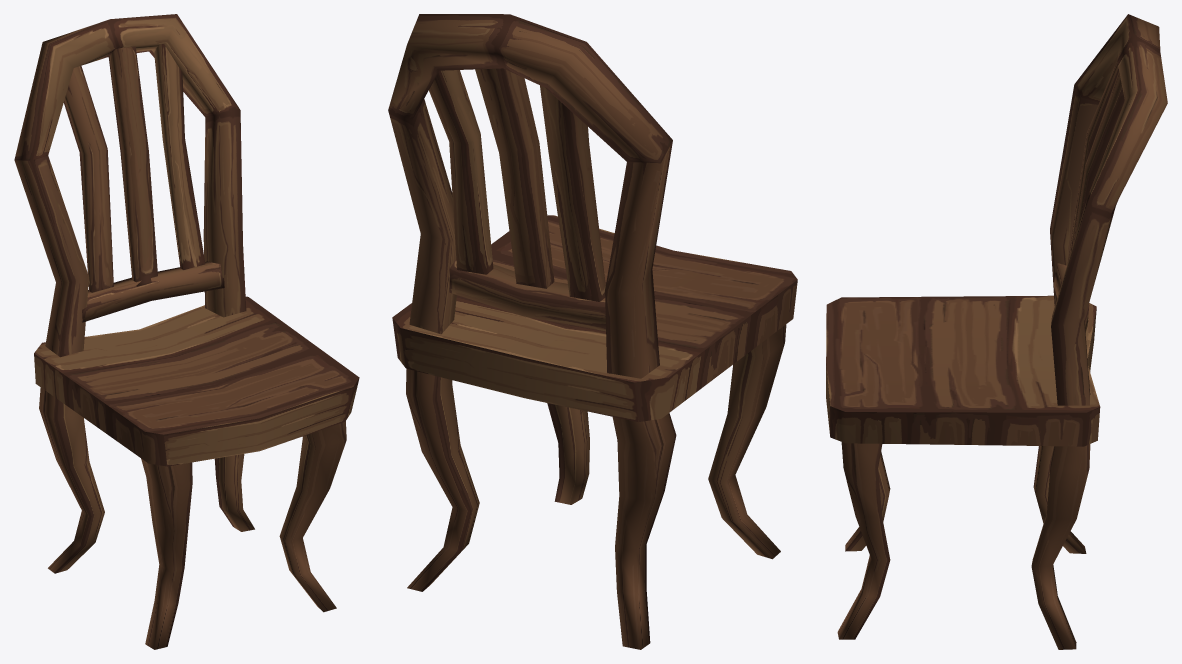
The model's file is SM_PROP_chair_interior_02.fbx.
3 views of the same model, side by side, from view 1: azimuth 30°, elevation 25°; view 2: azimuth 150°, elevation 25°; view 3: azimuth 270°, elevation 25° (orthographic). The views are drawn at different scales.
Parts seen in each view (by area): view 1: SM_PROP_chair_interior_02; view 2: SM_PROP_chair_interior_02; view 3: SM_PROP_chair_interior_02.
Part boxes in pixels (<box>): SM_PROP_chair_interior_02: <box>14,14,359,649</box>; SM_PROP_chair_interior_02: <box>388,14,797,649</box>; SM_PROP_chair_interior_02: <box>826,14,1167,649</box>.
Bounding box in the file's own units: 53.1 × 115 × 64.1.
